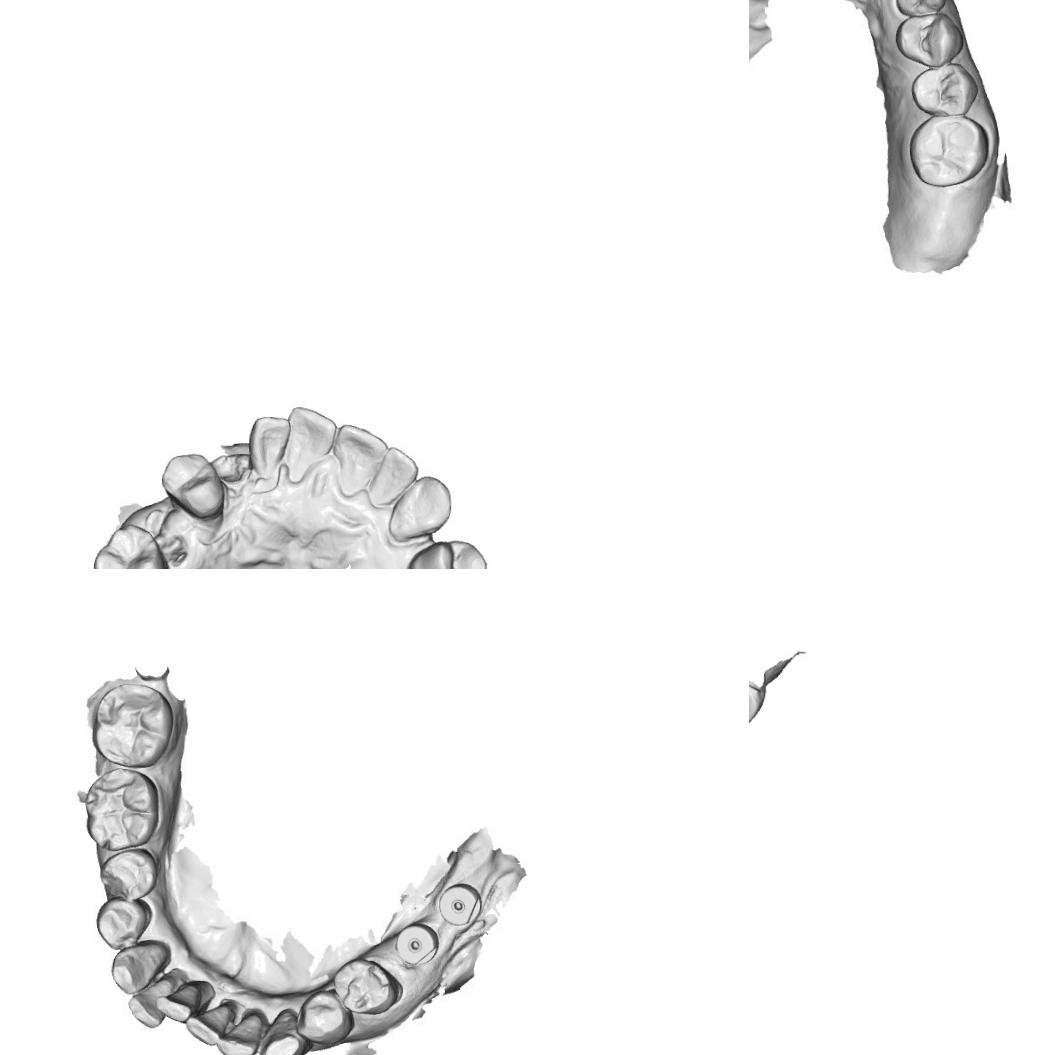canine: (386, 473, 452, 543), (107, 941, 168, 997), (260, 1003, 309, 1055), (884, 0, 949, 19)
implant: (434, 876, 484, 934), (392, 920, 436, 966)
incisor: (329, 422, 392, 490), (283, 402, 335, 471), (368, 445, 420, 509), (246, 413, 290, 477), (182, 1000, 235, 1050), (126, 980, 170, 1031), (215, 1010, 263, 1055), (160, 982, 210, 1022)
molar: (92, 680, 176, 771), (82, 765, 161, 854), (907, 114, 991, 188), (87, 519, 173, 569), (749, 658, 767, 732)
premolar: (157, 452, 230, 522), (330, 956, 402, 1019), (908, 60, 980, 117), (895, 10, 963, 68), (293, 989, 356, 1048), (98, 846, 160, 904), (94, 900, 154, 950), (404, 538, 490, 569)
